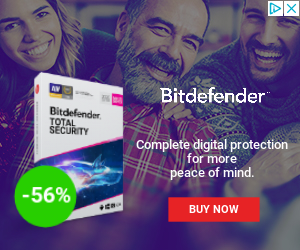fake_button: (163, 192, 268, 231), (261, 2, 300, 22)
